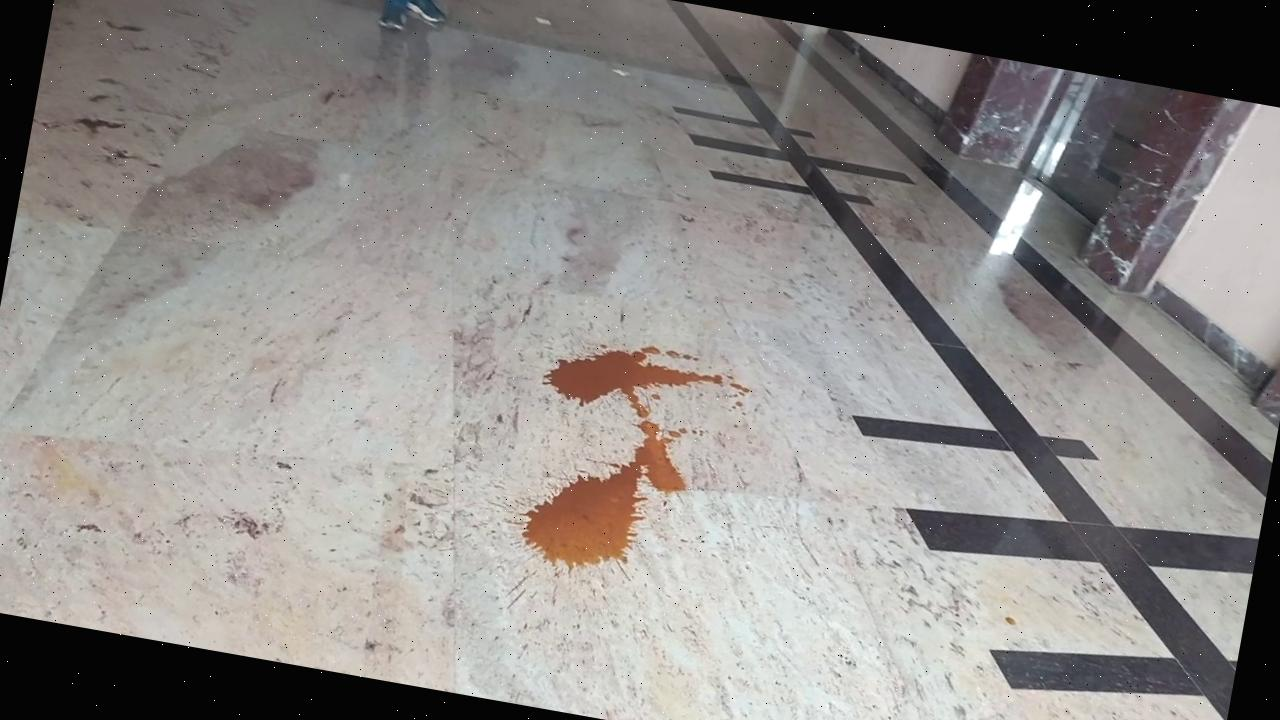dirty_floor: (519, 325, 758, 598)
